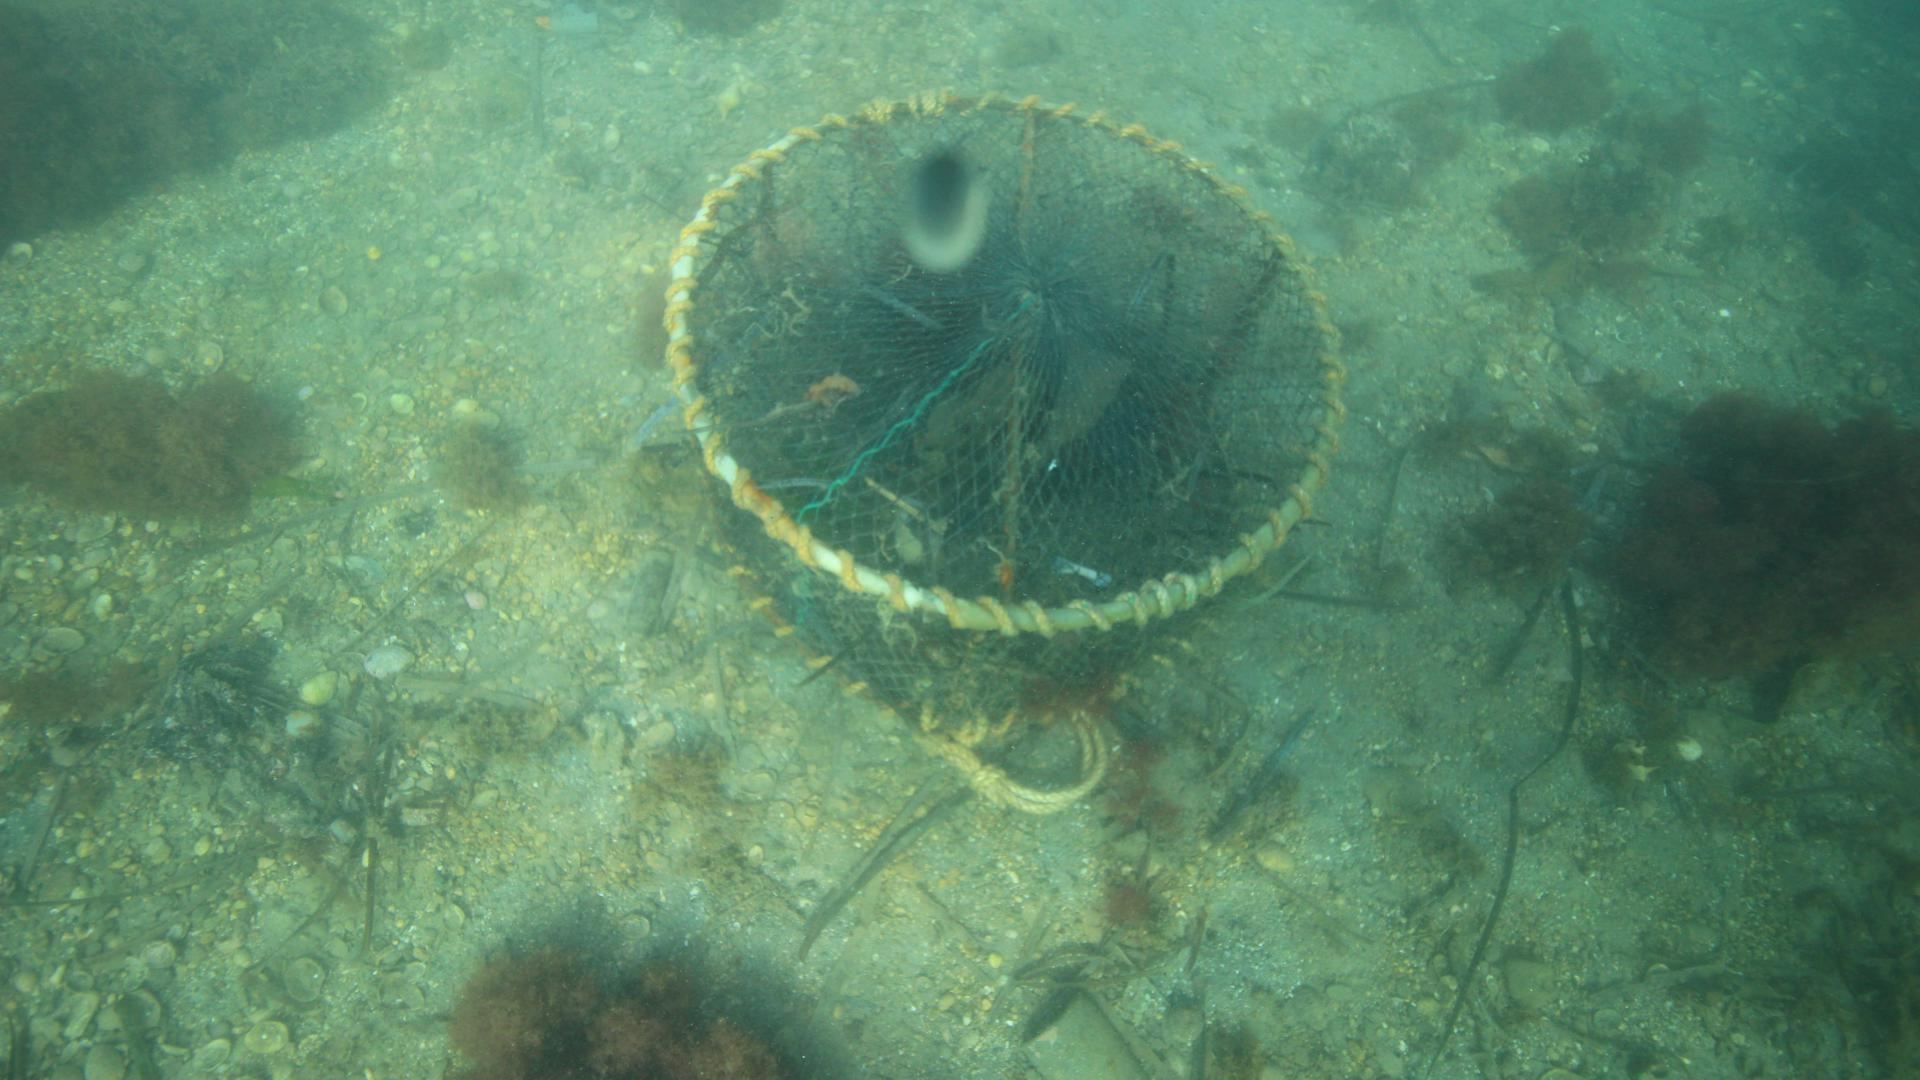bundle of ropes: (936, 707, 1106, 816)
circular fish trap: (662, 87, 1346, 742)
